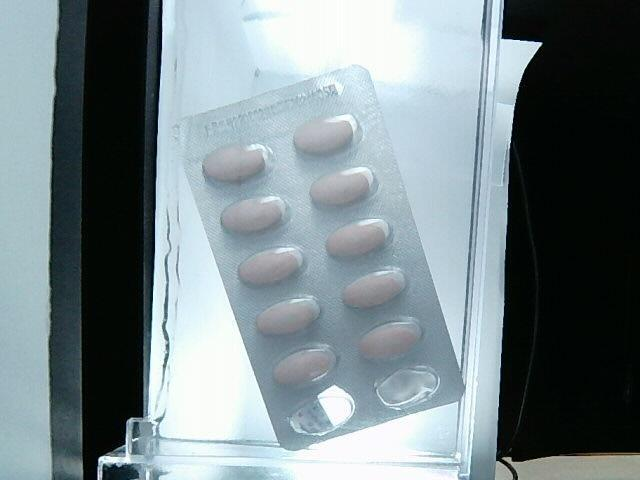Light Front: (178, 66, 464, 449)
No Pill Front: (289, 385, 355, 435), (375, 368, 440, 409)
Pill Front: (294, 114, 362, 155), (203, 144, 273, 182), (273, 345, 336, 387), (343, 269, 406, 307), (221, 196, 287, 232), (238, 248, 304, 284), (310, 168, 375, 204), (326, 220, 389, 255), (256, 299, 319, 334), (359, 328, 419, 359)
